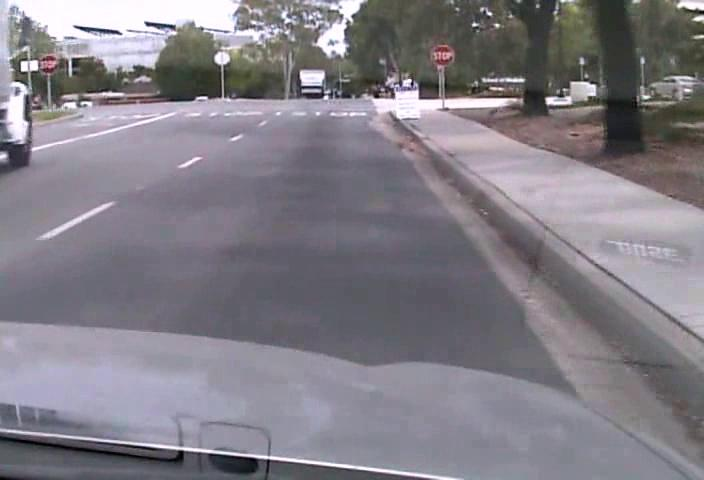stop: (429, 43, 454, 66)
